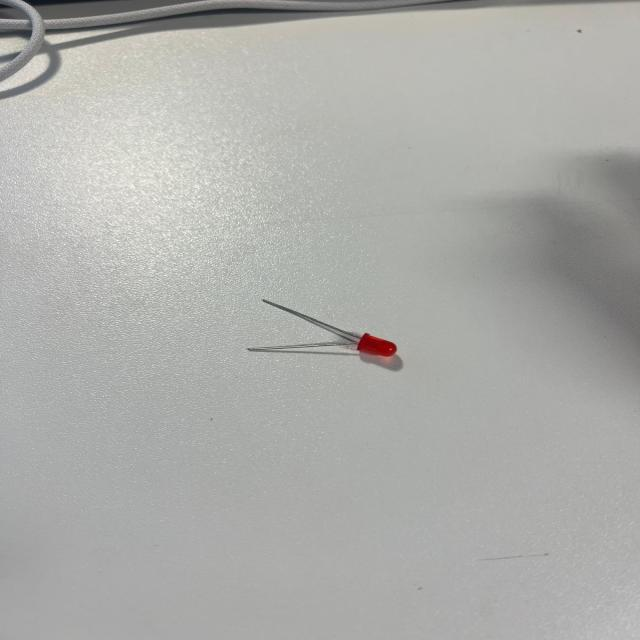REDLed: (244, 290, 401, 375)
